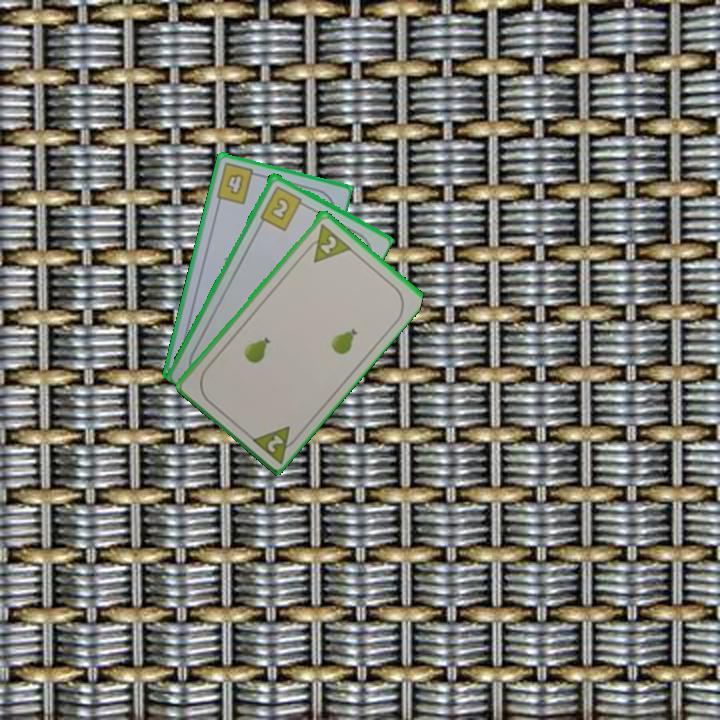2b: (256, 182, 309, 233)
2p: (247, 421, 303, 466), (300, 220, 353, 265)
4b: (212, 159, 263, 207)
